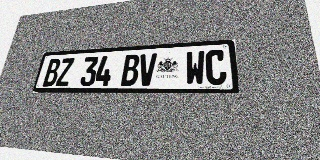3: (79, 56, 99, 86)
4: (94, 56, 114, 86)
B: (120, 54, 140, 86), (42, 59, 61, 86)
C: (205, 49, 227, 85)
V: (137, 53, 157, 86)
W: (185, 50, 205, 85)
Z: (55, 58, 74, 86)
